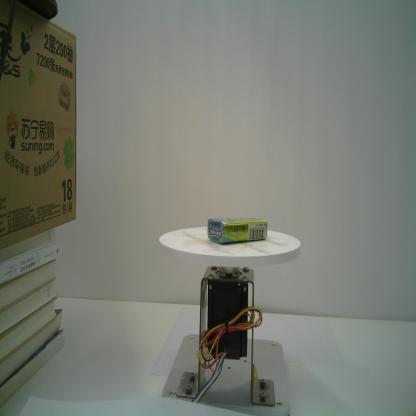Gum: (207, 215, 268, 244)
